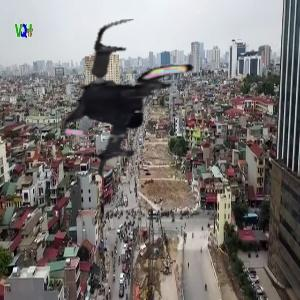drone: (46, 16, 223, 193)
